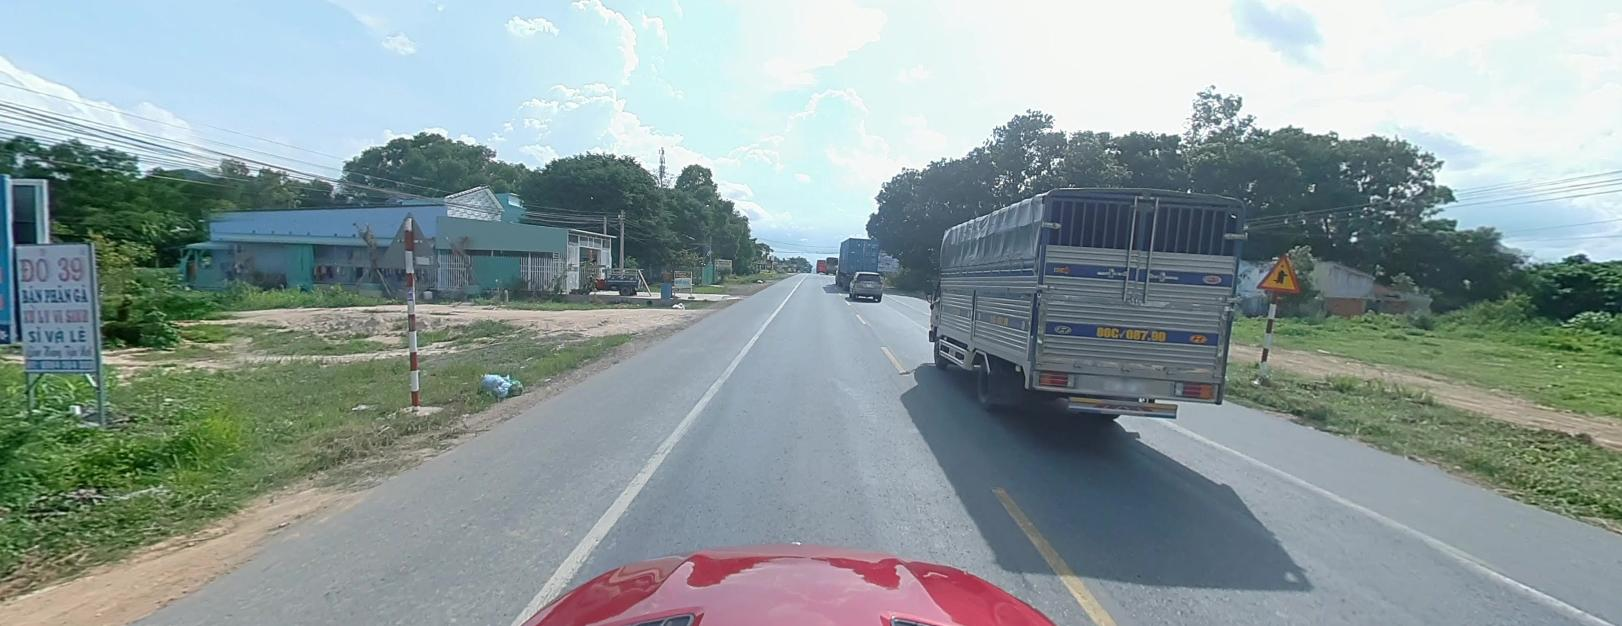Nguy hiem: (1256, 252, 1298, 291)
